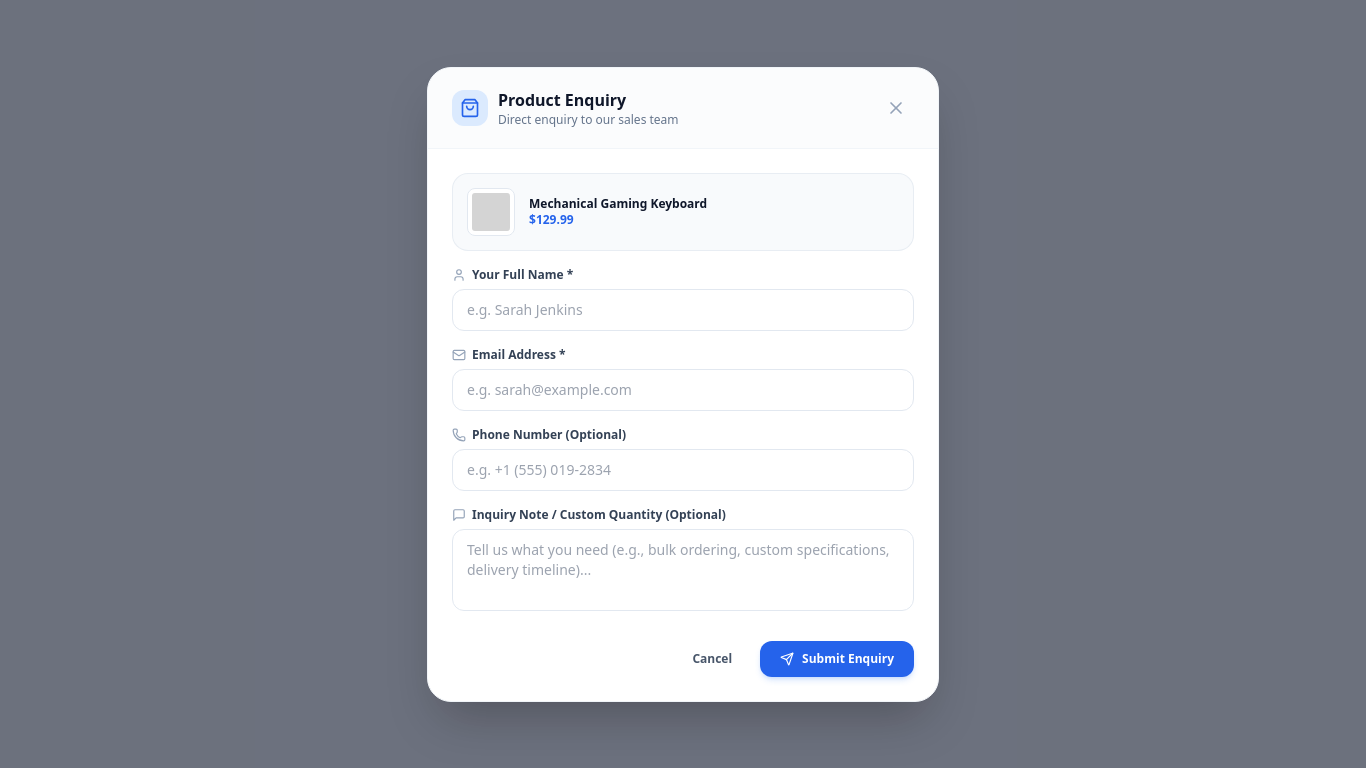
Test: EnquiryModal Component (AC-5) › validates required fields and shows thank you message upon submission
Expected: the text "Mechanical Gaming Keyboard" is shown, [529,194,707,212]
In the field with placeholder "e.g. Sarah Jenkins": (683,310) [452,288,914,330], type "Arun Assessor"
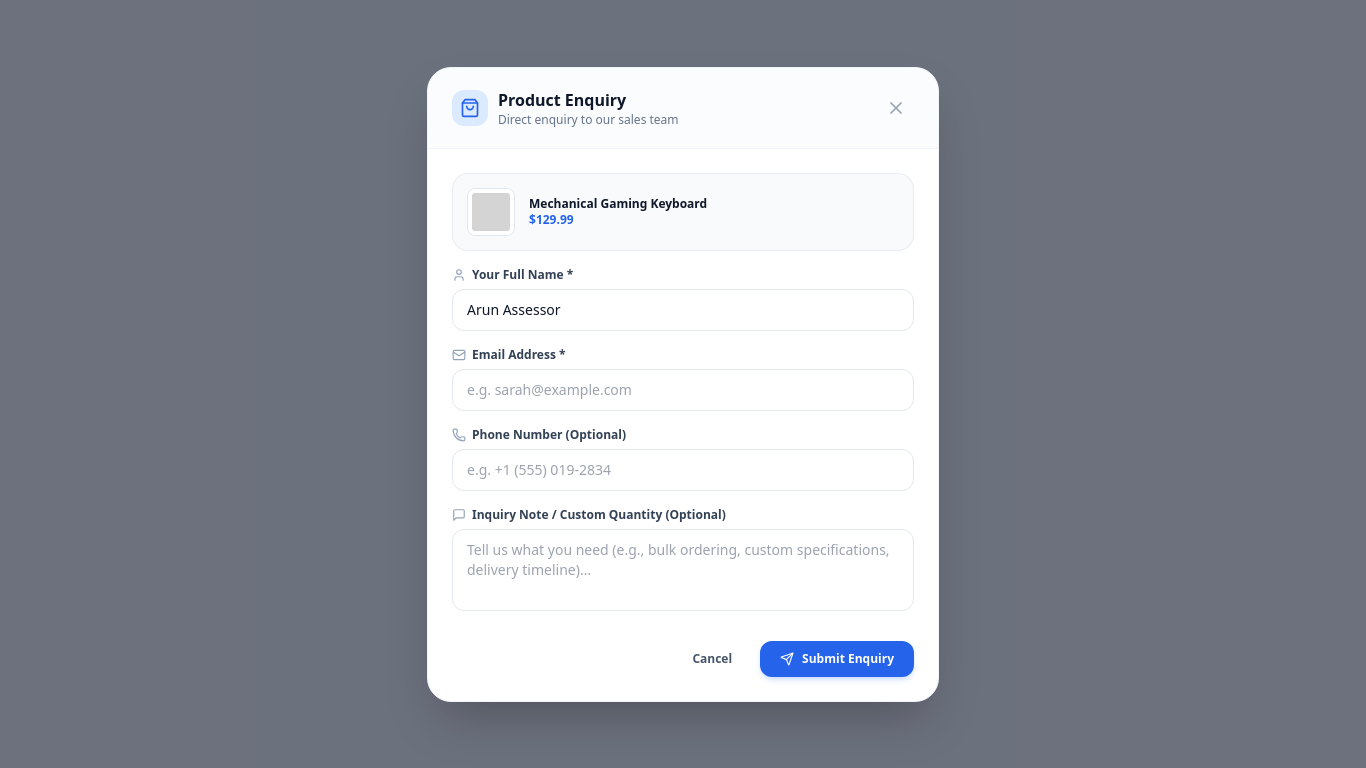
In the field with placeholder "e.g. sarah@example.com": (683,390) [452,368,914,410], type "arun@example.com"
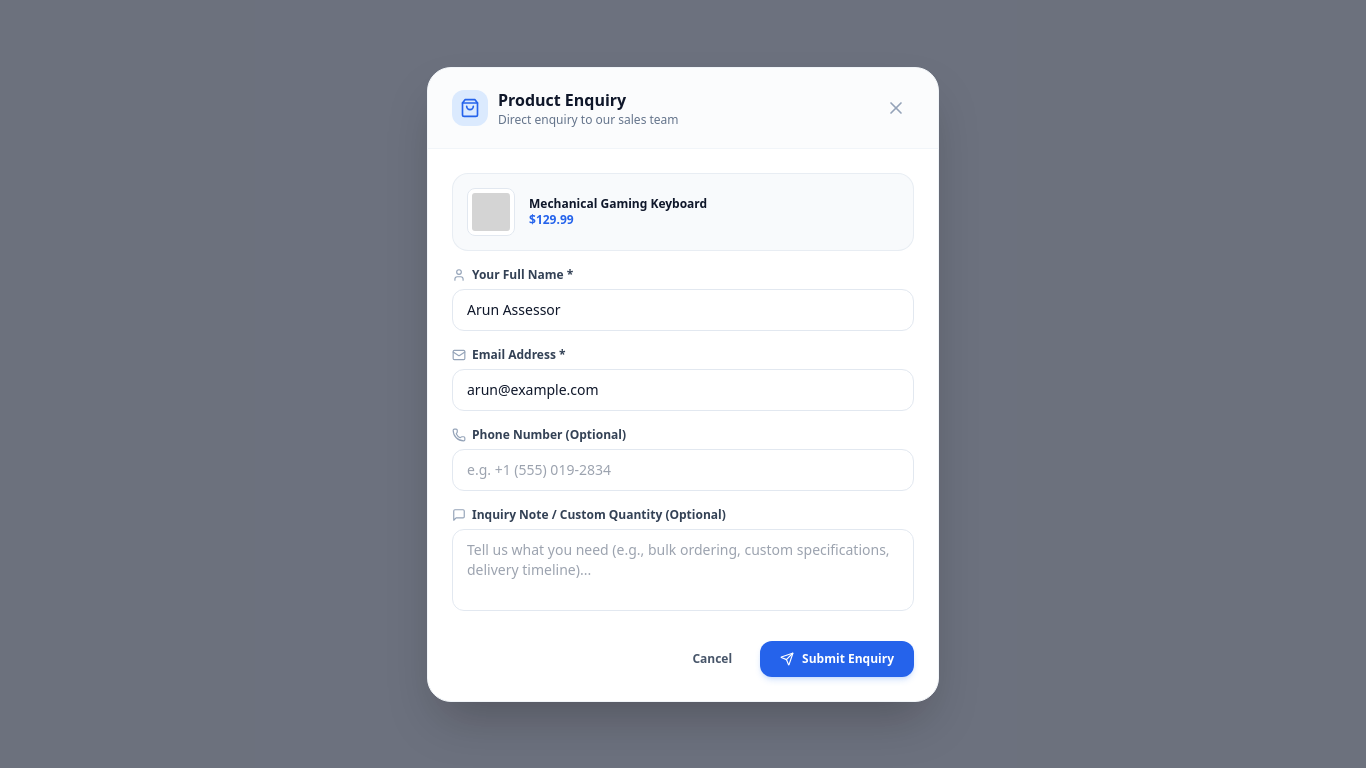
Replace the text in the text box with placeholder "bulk ordering" with "Interested in placing an order for 50 units.": (683,570) [452,528,914,610]
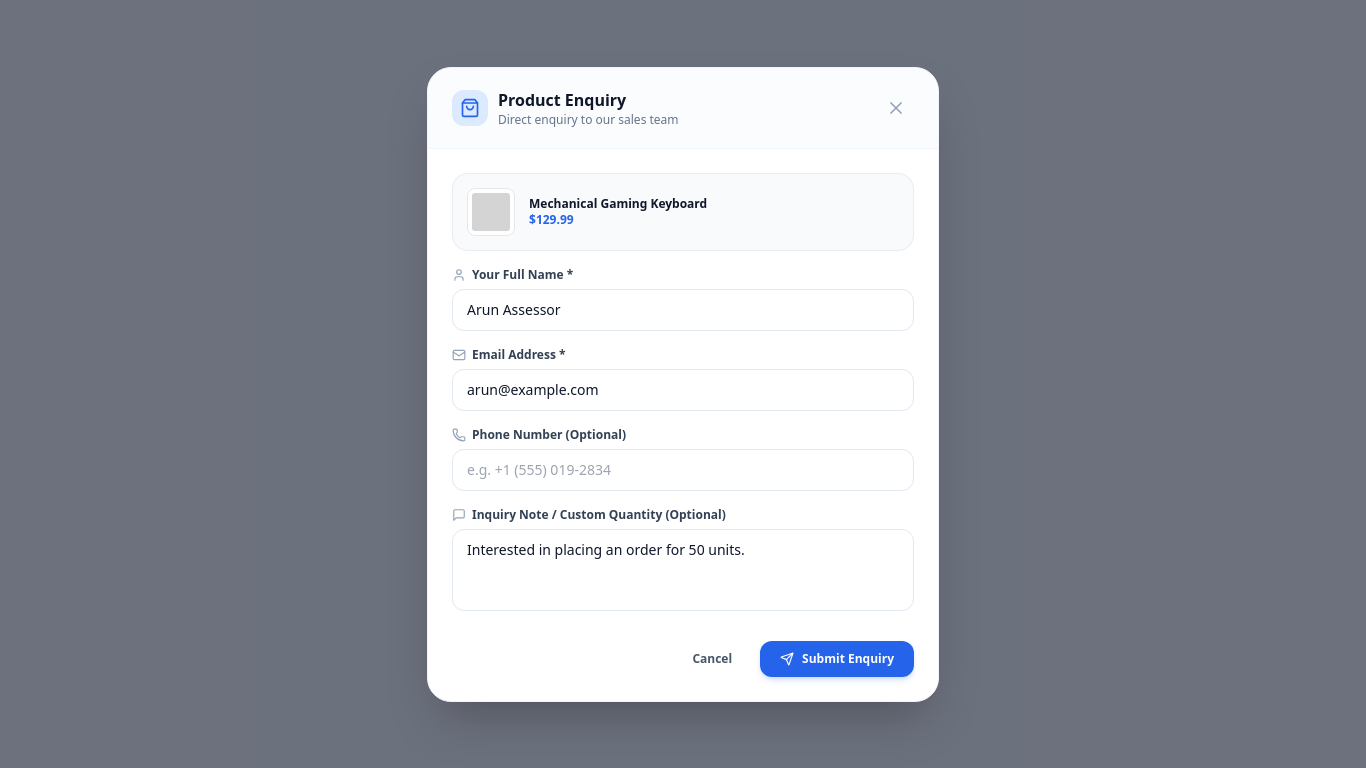
# Submit form
Click the button "Submit Enquiry": (837,658) [760,640,914,676]
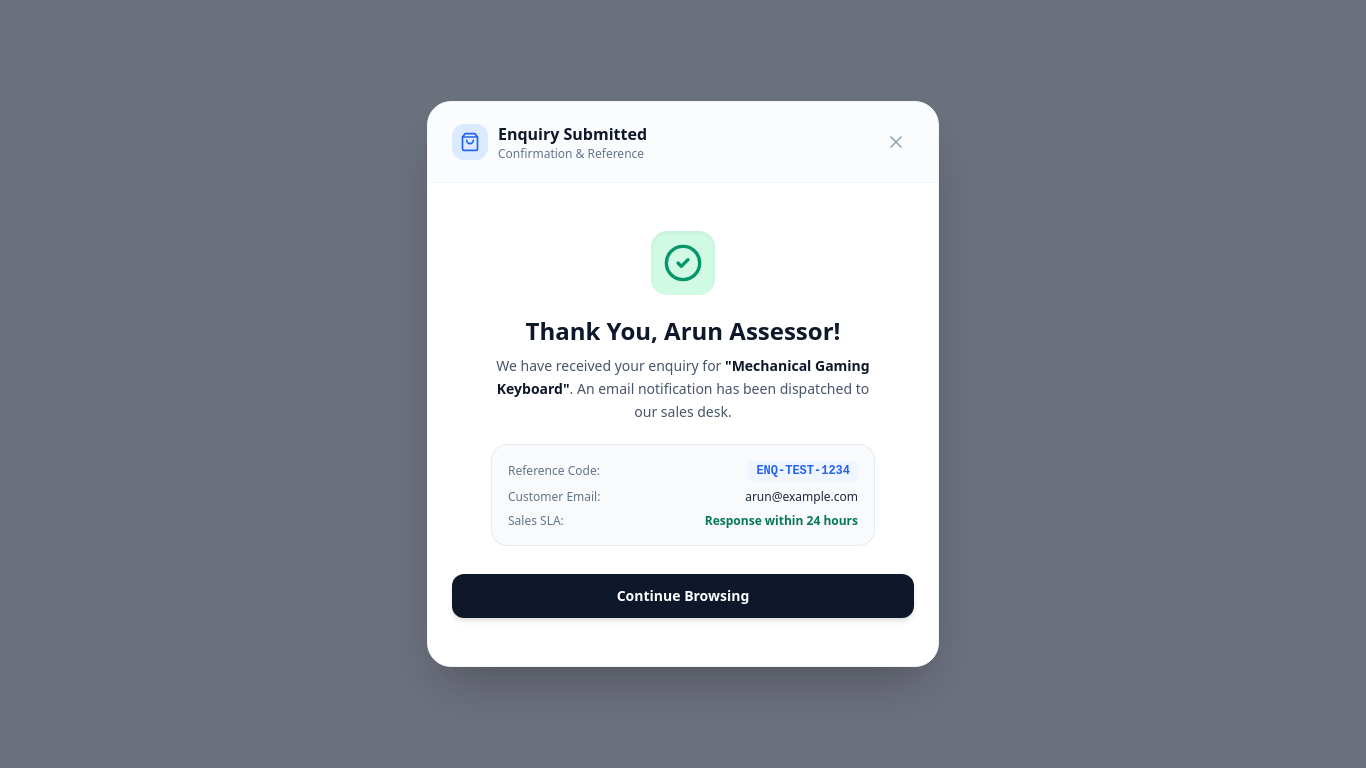
Result: the heading "Thank You, Arun Assessor!" is shown at [526,314,840,347]
Result: the text "ENQ-TEST-1234" is shown at [748,461,858,481]
